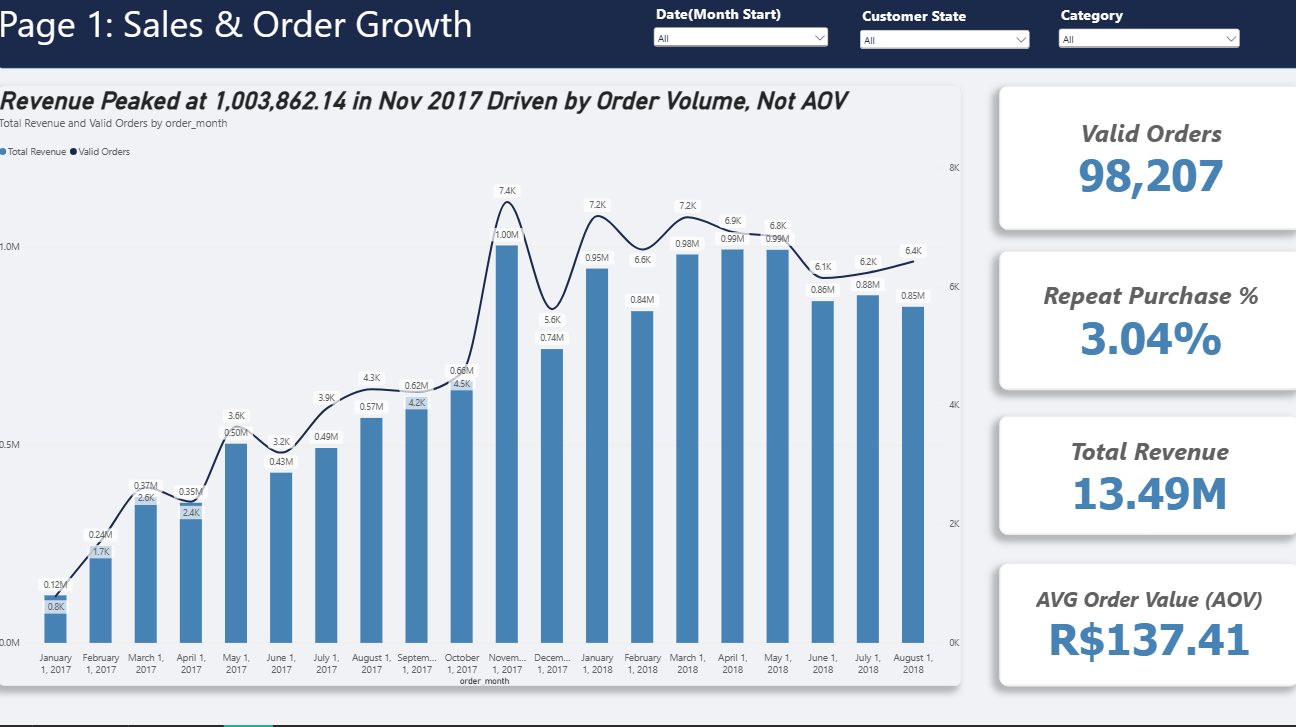

What the dashboard file says about the page in this screenshot:
{"tool":"powerbi","page":{"name":"Page 1","canvas":[1920,1080],"ordinal":0},"visuals":[{"type":"cardVisual","fields":{"Data":["dim_orders.AOV"]},"box":[1474.6,839.3,441.3,181.4],"z":0},{"type":"cardVisual","fields":{"Data":["fact_order_items.Total Revenue"]},"box":[1474.6,621.3,441.3,176.2],"z":1000},{"type":"cardVisual","fields":{"Data":["dim_orders.Valid Orders"]},"box":[1474.6,136.4,446.5,212.8],"z":2000},{"type":"cardVisual","fields":{"Data":["dim_customers.Repeat Purchase %"]},"box":[1474.6,378.9,446.5,205.8],"z":3000},{"type":"lineStackedColumnComboChart","title":"Revenue Peaked at 1,003,862.14 in Nov 2017 Driven by Order Volume, Not AOV","fields":{"Category":["dim_orders.order_month"],"Y":["fact_order_items.Total Revenue"],"Y2":["dim_orders.Valid Orders"]},"box":[0.8,136.4,1418,884.3],"z":4000},{"type":"shape","box":[0.8,7.4,1919.6,104.9],"z":5000},{"type":"textbox","box":[0.8,7.4,817.2,84.7],"z":6000},{"type":"slicer","fields":{"Values":["dim_orders.order_month"]},"box":[960.7,14.7,266.9,66.3],"z":7000},{"type":"slicer","fields":{"Values":["dim_customers.customer_state"]},"box":[1264.4,18.4,259.5,66.3],"z":8000},{"type":"slicer","fields":{"Values":["dim_products.category_en"]},"box":[1557.1,16.6,276.1,75.5],"z":9000}]}

Visuals, with their boxes in screenshot pixels (x1, y1, x2, y2), scaled from the page's 1920x1080 canvas onto the 1296x727 screenshot:
cardVisual - dim_orders.AOV: {"left": 995, "top": 565, "right": 1293, "bottom": 687}
cardVisual - fact_order_items.Total Revenue: {"left": 995, "top": 418, "right": 1293, "bottom": 537}
cardVisual - dim_orders.Valid Orders: {"left": 995, "top": 92, "right": 1295, "bottom": 235}
cardVisual - dim_customers.Repeat Purchase %: {"left": 995, "top": 255, "right": 1295, "bottom": 394}
"Revenue Peaked at 1,003,862.14 in Nov 2017 Driven by Order Volume, Not AOV" lineStackedColumnComboChart: {"left": 1, "top": 92, "right": 958, "bottom": 687}
shape: {"left": 1, "top": 5, "right": 1295, "bottom": 76}
textbox: {"left": 1, "top": 5, "right": 552, "bottom": 62}
slicer - dim_orders.order_month: {"left": 648, "top": 10, "right": 829, "bottom": 55}
slicer - dim_customers.customer_state: {"left": 853, "top": 12, "right": 1029, "bottom": 57}
slicer - dim_products.category_en: {"left": 1051, "top": 11, "right": 1237, "bottom": 62}
